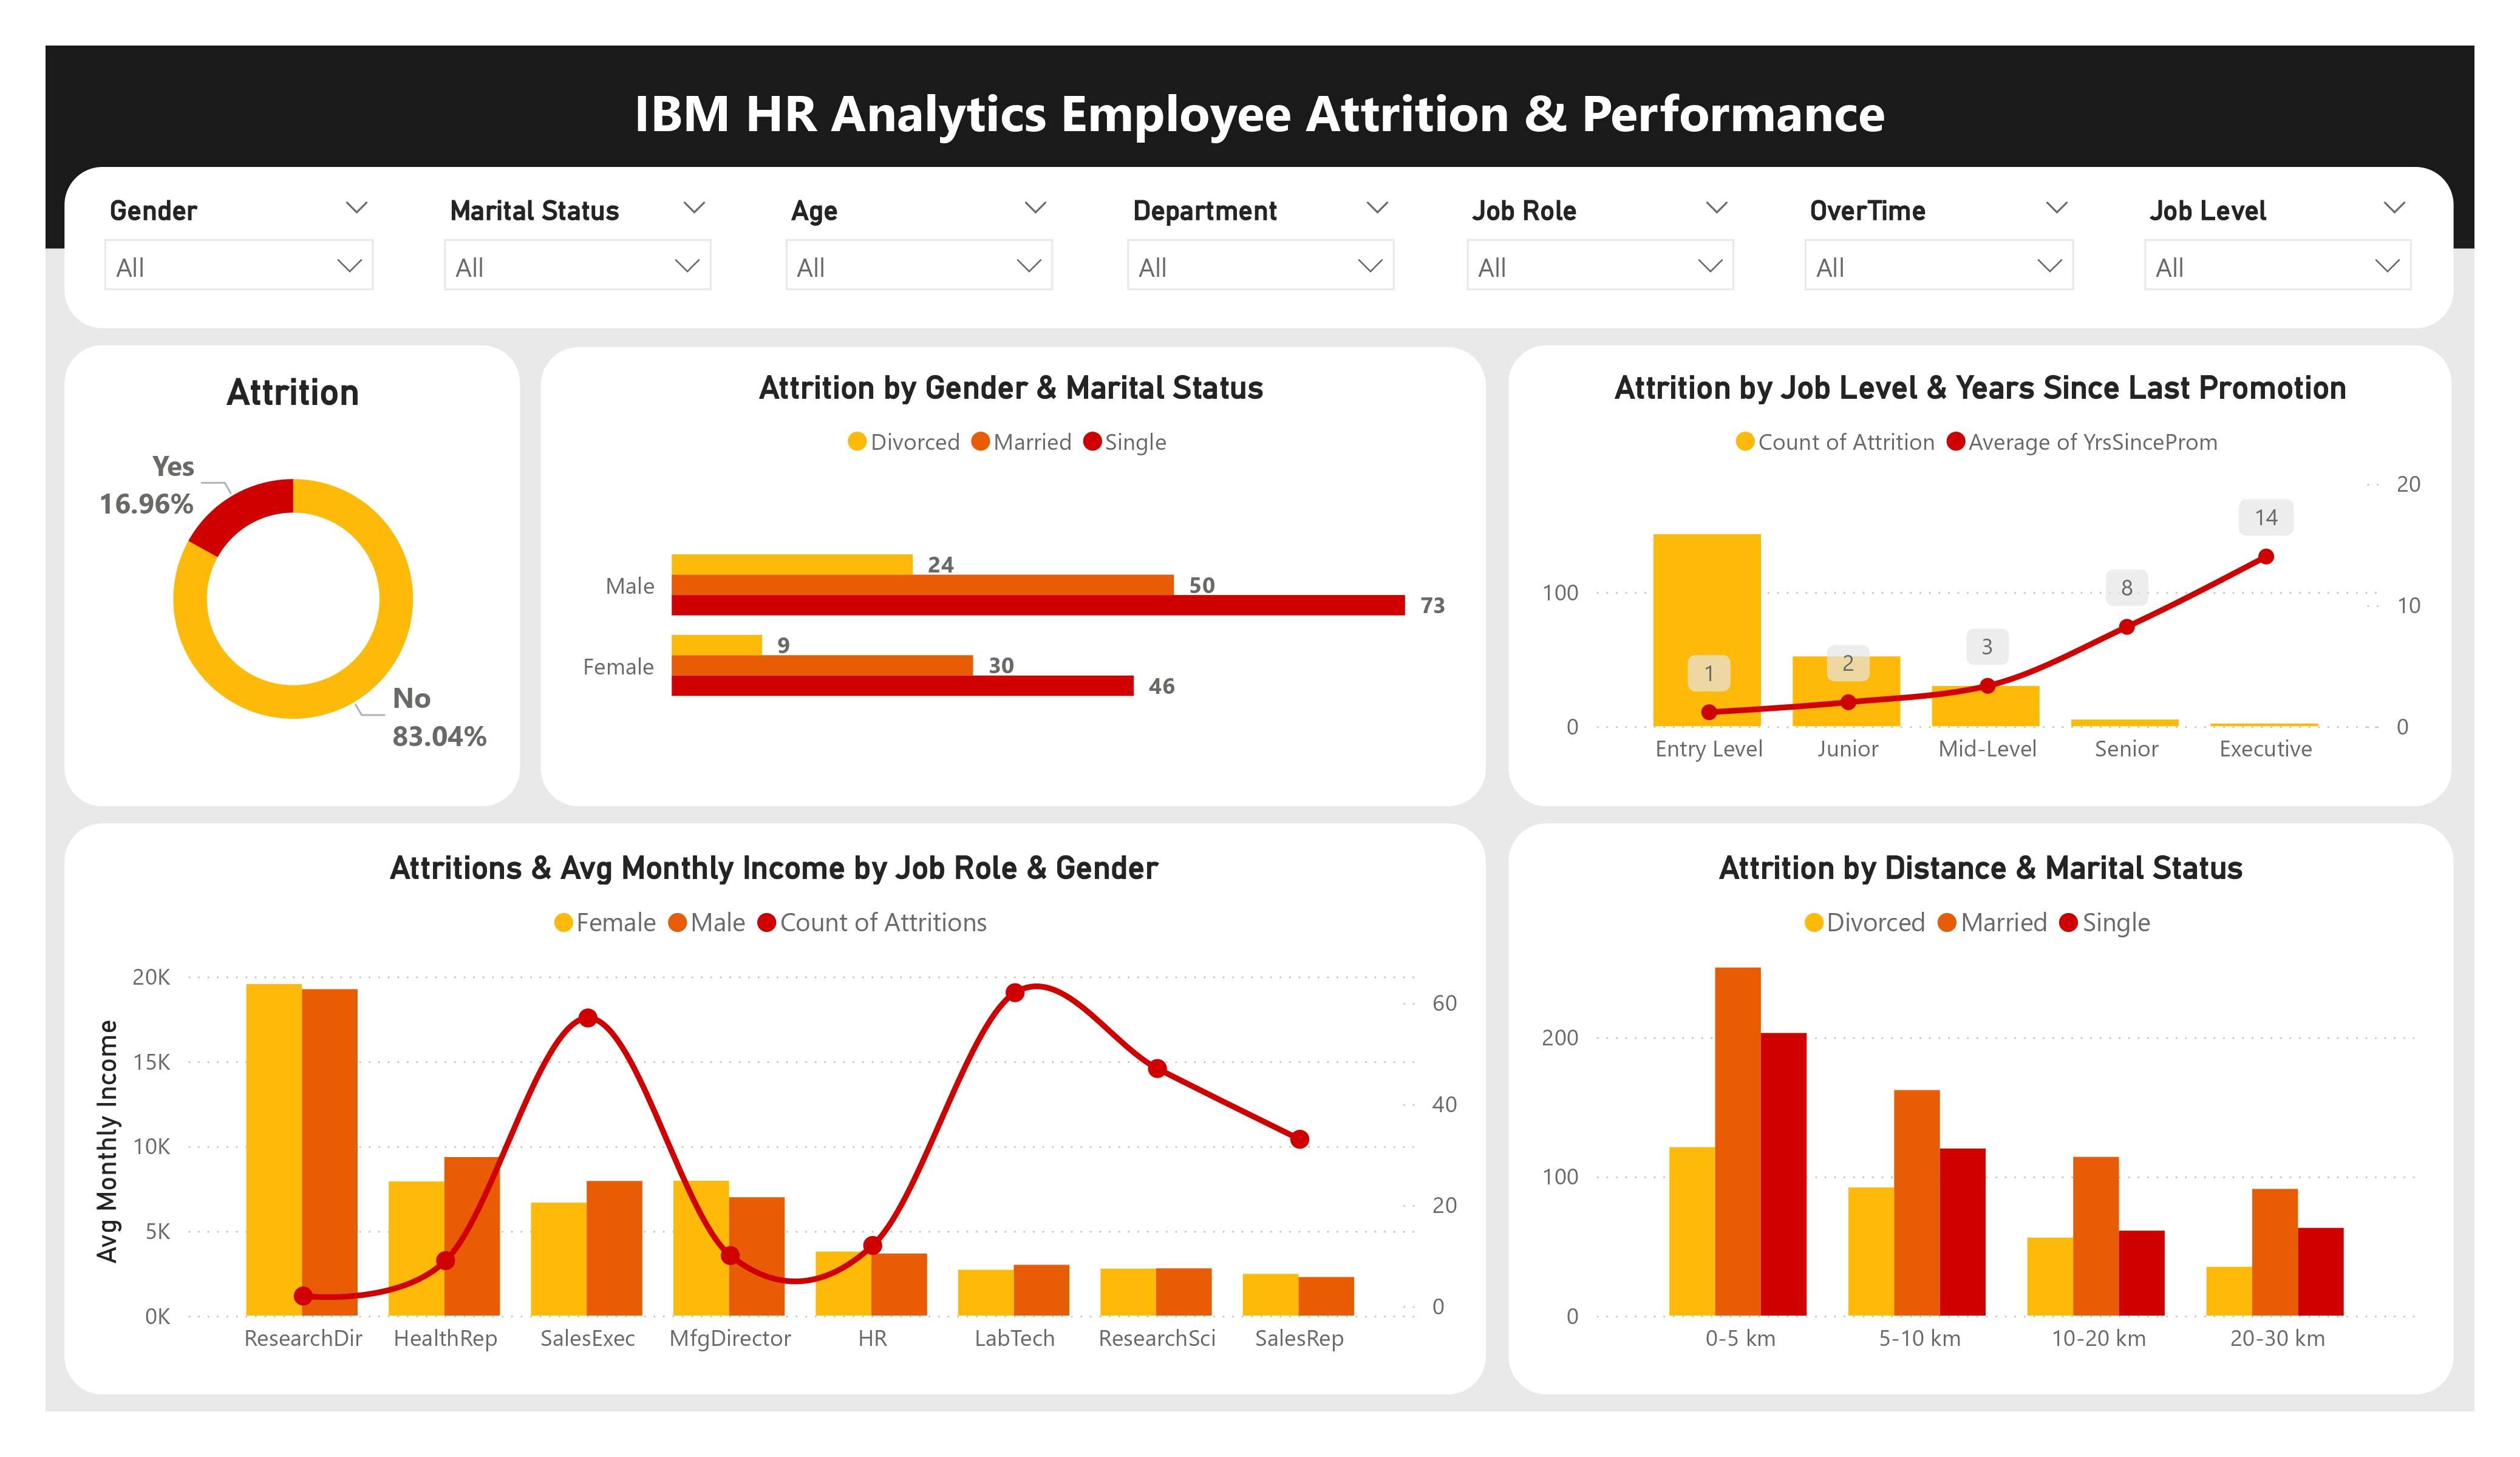

What the dashboard file says about the page in this screenshot:
{"tool":"powerbi","page":{"name":"Page 1","canvas":[1280,720],"ordinal":0},"visuals":[{"type":"shape","box":[0,0,1280,107.1],"z":0},{"type":"textbox","box":[0,11.4,1280,107.1],"z":1000},{"type":"shape","box":[10,64.3,1258.6,84.3],"z":2000},{"type":"slicer","fields":{"Values":["employee_attrition_data.Gender"]},"box":[21.4,74.3,161.4,65.7],"z":3000},{"type":"slicer","fields":{"Values":["employee_attrition_data.MaritalStatus"]},"box":[200,74.3,161.4,65.7],"z":4000},{"type":"slicer","fields":{"Values":["employee_attrition_data.AgeBand"]},"box":[380,74.3,161.4,65.7],"z":5000},{"type":"slicer","fields":{"Values":["employee_attrition_data.Department"]},"box":[560,74.3,161.4,65.7],"z":6000},{"type":"shape","box":[9.6,157.8,240.1,242.9],"z":7000},{"type":"slicer","fields":{"Values":["employee_attrition_data.JobRole"]},"box":[738.6,74.3,161.4,65.7],"z":8000},{"type":"donutChart","title":"Attrition ","fields":{"Y":["CountNonNull(employee_attrition_data.Attrition)"],"Category":["employee_attrition_data.Attrition"]},"box":[21.4,171.4,218.6,218.6],"z":9000},{"type":"shape","box":[260.7,159.2,498.1,241.5],"z":10000},{"type":"shape","box":[771.2,157.8,496.7,242.9],"z":11000},{"type":"shape","box":[771.4,410,497.1,301.4],"z":12000},{"type":"clusteredBarChart","title":"Attrition by Gender & Marital Status","fields":{"Category":["employee_attrition_data.Gender"],"Y":["CountNonNull(employee_attrition_data.Attrition)"],"Series":["employee_attrition_data.MaritalStatus"]},"box":[274.4,170.2,469.3,218.2],"z":13000},{"type":"lineClusteredColumnComboChart","title":"Attrition by Job Level & Years Since Last Promotion","fields":{"Category":["employee_attrition_data.JobLevelLabel"],"Y2":["Avg(employee_attrition_data.YrsSinceProm)"],"Y":["CountNonNull(employee_attrition_data.Attrition)"]},"box":[782.9,170,474.3,218.6],"z":14000},{"type":"shape","box":[10,410,748.6,301.4],"z":15000},{"type":"lineClusteredColumnComboChart","title":"Attritions & Avg Monthly Income by Job Role & Gender","fields":{"Category":["employee_attrition_data.JobRole"],"Y2":["CountNonNull(employee_attrition_data.Attrition)"],"Series":["employee_attrition_data.Gender"],"Y":["Avg(employee_attrition_data.MonthlyIncome)"]},"box":[18.6,422.9,730,275.7],"z":16000},{"type":"clusteredColumnChart","title":"Attrition by Distance & Marital Status","fields":{"Y":["CountNonNull(employee_attrition_data.Attrition)"],"Category":["employee_attrition_data.Distance Band"],"Series":["employee_attrition_data.MaritalStatus"]},"box":[782.9,422.9,474.3,275.7],"z":17000},{"type":"slicer","fields":{"Values":["employee_attrition_data.OverTime"]},"box":[917.1,74.3,161.4,65.7],"z":18000},{"type":"slicer","fields":{"Values":["employee_attrition_data.JobLevelLabel"]},"box":[1095.7,74.3,161.4,65.7],"z":19000}]}

Visuals, with their boxes on the page's 1280x720 design canvas (x1, y1, x2, y2). These are canvas units, not pixel positions in the 2520x1457 screenshot, which may show the page scaled, cropped or inside an application window:
shape: (0,0,1280,107)
textbox: (0,11,1280,118)
shape: (10,64,1269,149)
slicer - employee_attrition_data.Gender: (21,74,183,140)
slicer - employee_attrition_data.MaritalStatus: (200,74,361,140)
slicer - employee_attrition_data.AgeBand: (380,74,541,140)
slicer - employee_attrition_data.Department: (560,74,721,140)
shape: (10,158,250,401)
slicer - employee_attrition_data.JobRole: (739,74,900,140)
"Attrition " donutChart: (21,171,240,390)
shape: (261,159,759,401)
shape: (771,158,1268,401)
shape: (771,410,1268,711)
"Attrition by Gender & Marital Status" clusteredBarChart: (274,170,744,388)
"Attrition by Job Level & Years Since Last Promotion" lineClusteredColumnComboChart: (783,170,1257,389)
shape: (10,410,759,711)
"Attritions & Avg Monthly Income by Job Role & Gender" lineClusteredColumnComboChart: (19,423,749,699)
"Attrition by Distance & Marital Status" clusteredColumnChart: (783,423,1257,699)
slicer - employee_attrition_data.OverTime: (917,74,1078,140)
slicer - employee_attrition_data.JobLevelLabel: (1096,74,1257,140)
